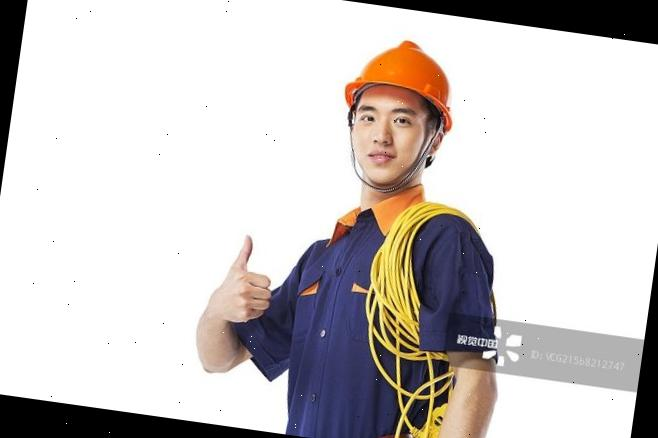helmet: (343, 34, 472, 122)
no_wear: (275, 198, 497, 438)
